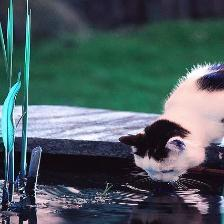kedo: (119, 62, 224, 184)
